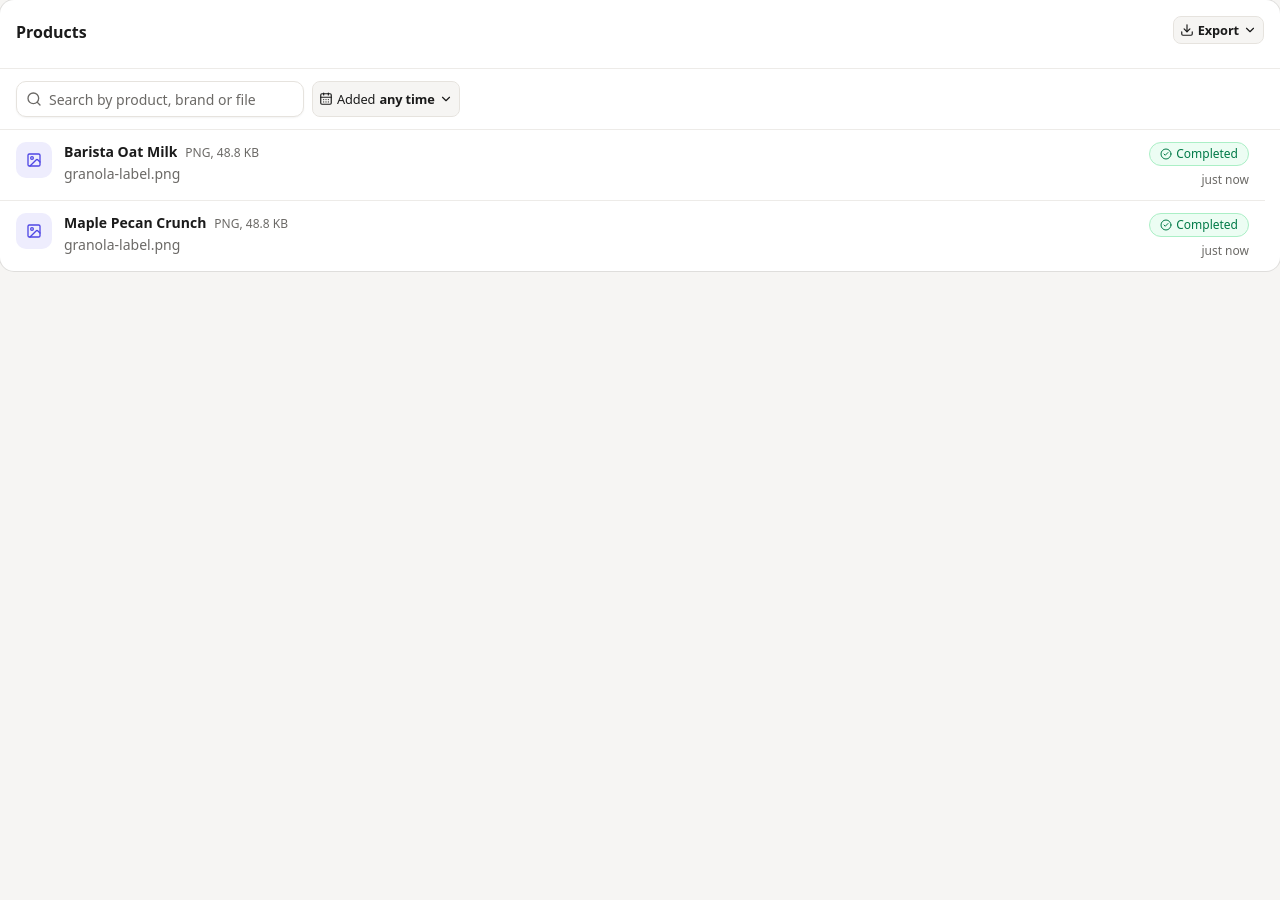
Scenario: searching, filtering and picking products › searches by what was typed, once typing pauses, and filters by when products were added
The width and height of the screenshot is (1280, 900).
Expected: the text "Maple Pecan Crunch" is shown, [64,213,206,233]
Type "oat" into the search field named "Search products" at (160, 99), box [16,81,304,117]
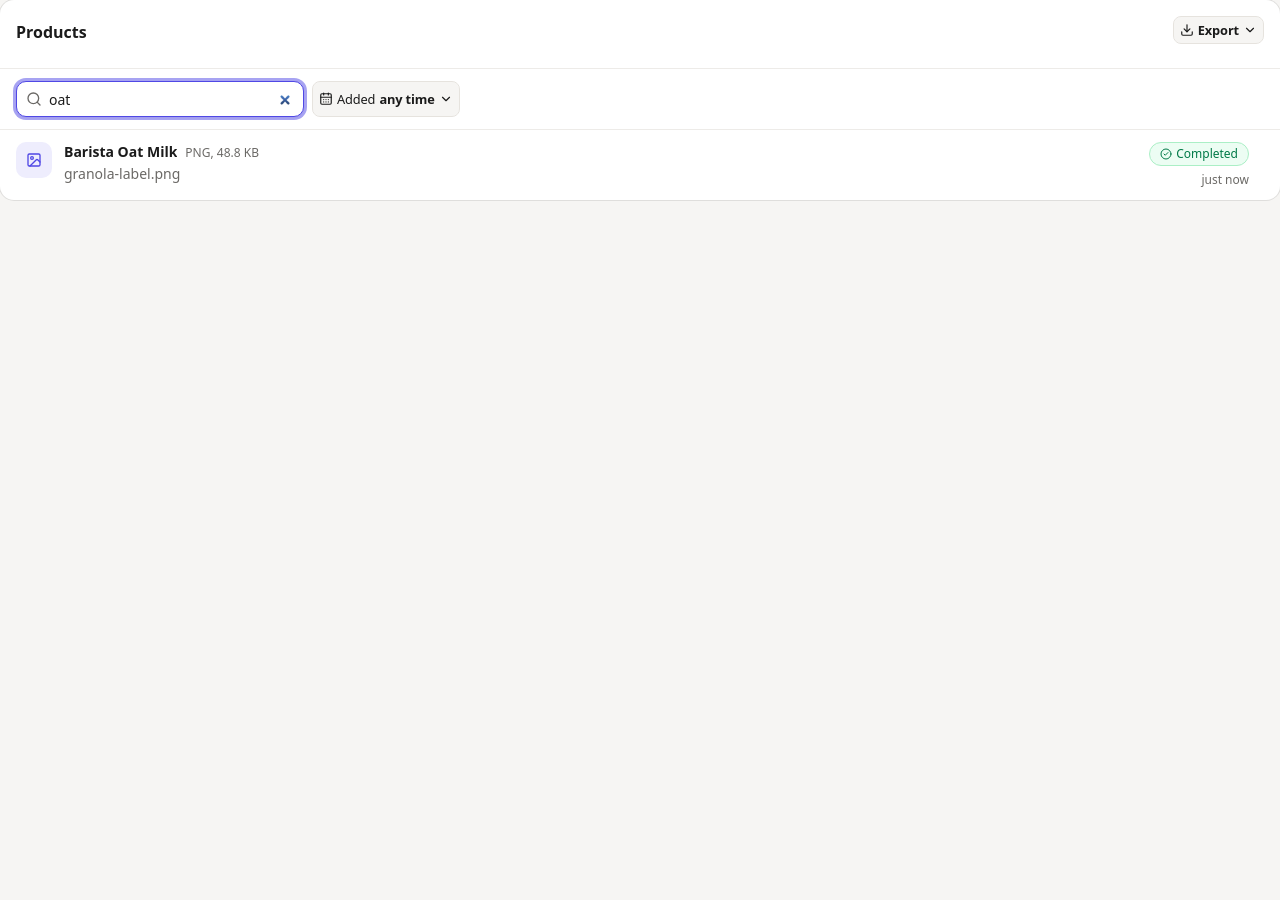
Expected: the link "Maple Pecan Crunch" is gone
Click the button "Added any time" at (386, 99), box [312,81,460,117]
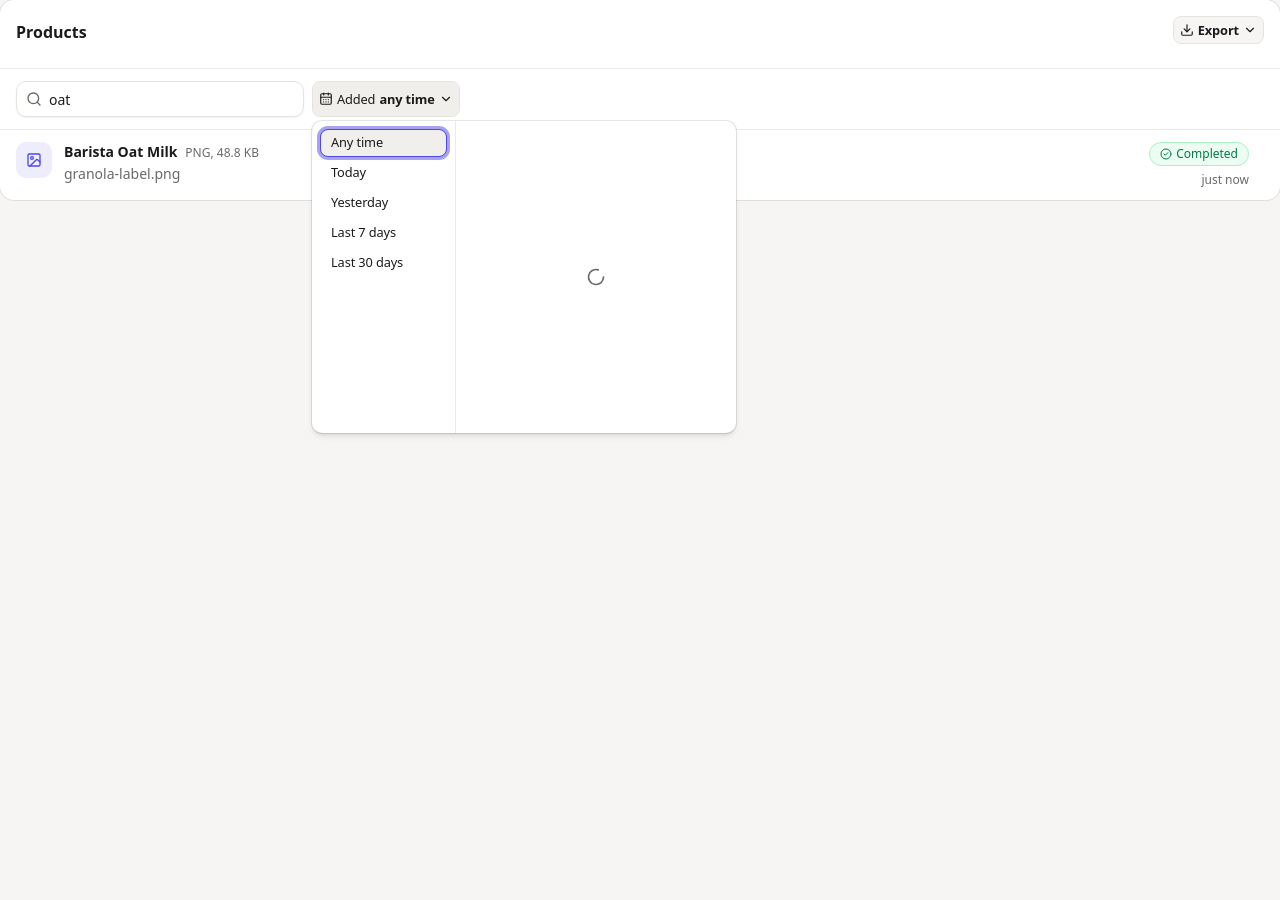
Click the button "Last 7 days" at (384, 233), box [320,219,447,247]
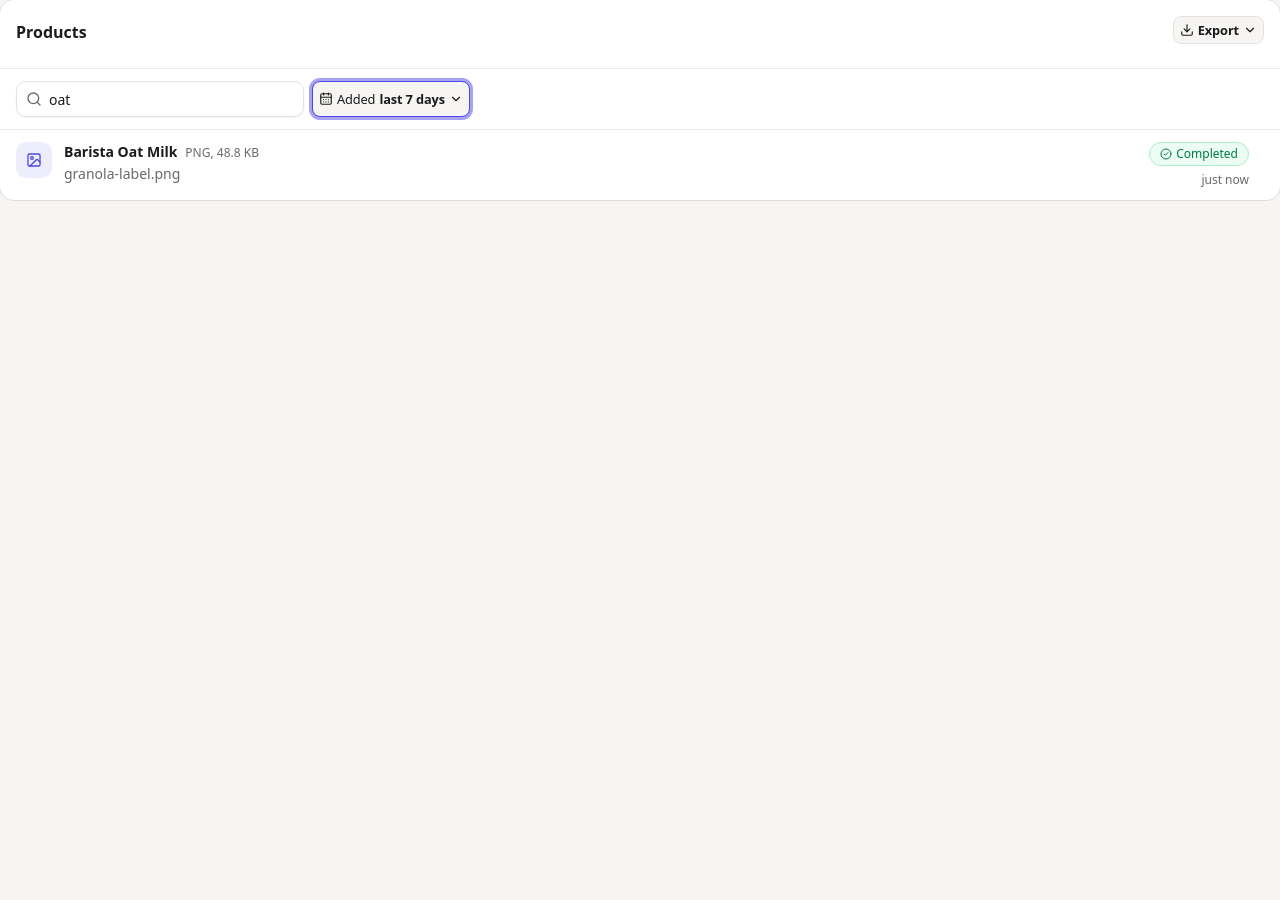
Expected: the button "Added last 7 days" is shown, [312,81,470,117]
